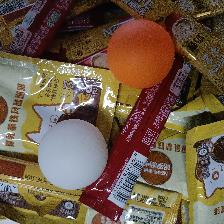WhiteBall: (38, 118, 108, 189)
YellowBall: (107, 19, 173, 88)
